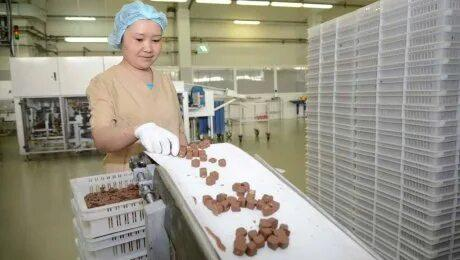hairnet: (104, 0, 168, 45)
